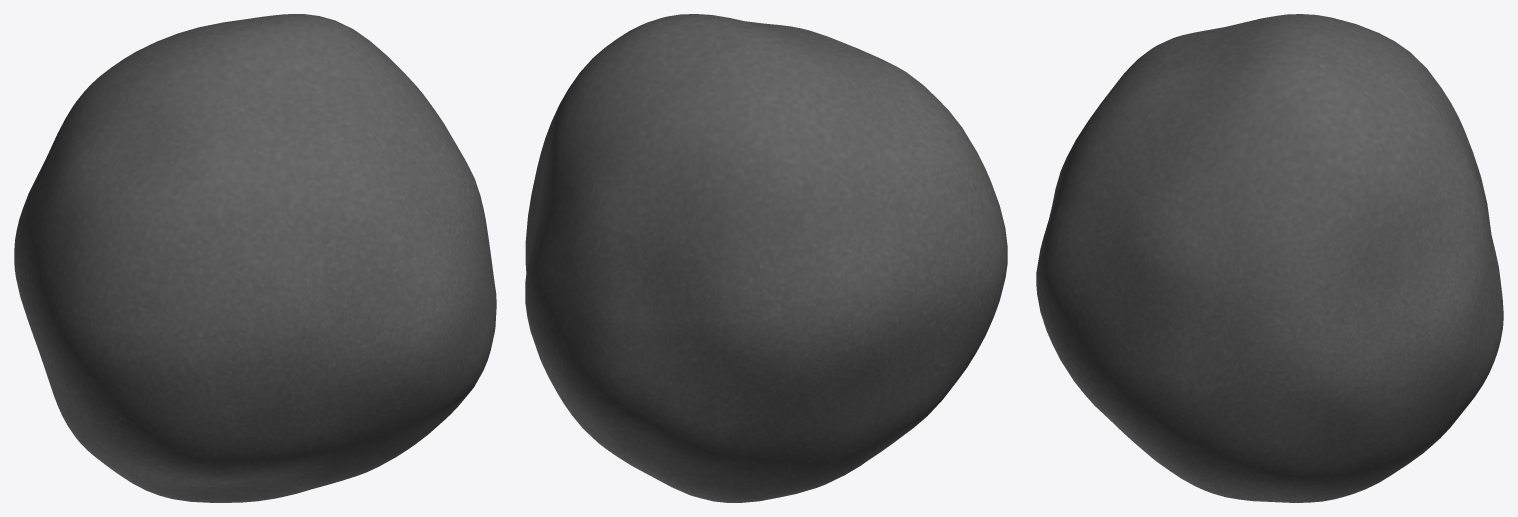
File: asteroid7.fbx
3 views of the same model, side by side, from view 1: azimuth 30°, elevation 25°; view 2: azimuth 150°, elevation 25°; view 3: azimuth 270°, elevation 25° (orthographic).
Visible parts, largest first — view 1: Icosphere; view 2: Icosphere; view 3: Icosphere.
Part boxes in pixels (<box>): Icosphere: <box>14,14,496,502</box>; Icosphere: <box>525,14,1007,502</box>; Icosphere: <box>1036,14,1503,502</box>.
Size of the model in its own units: 195 by 196 by 184.
